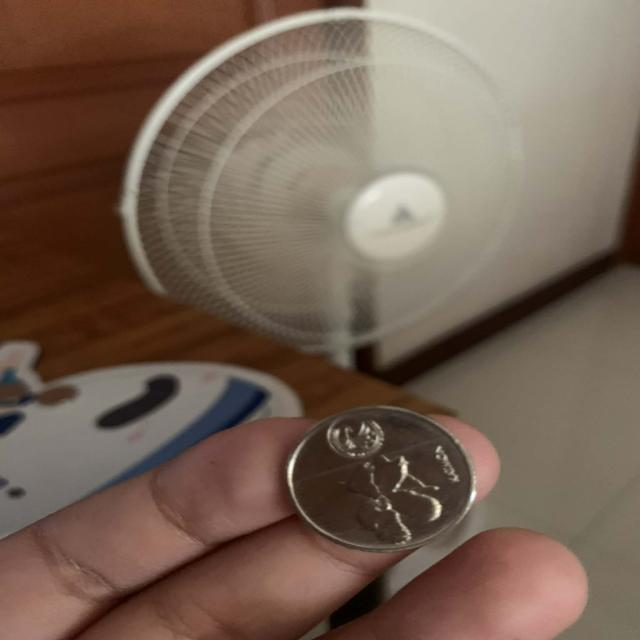25 cents: (286, 402, 484, 552)
